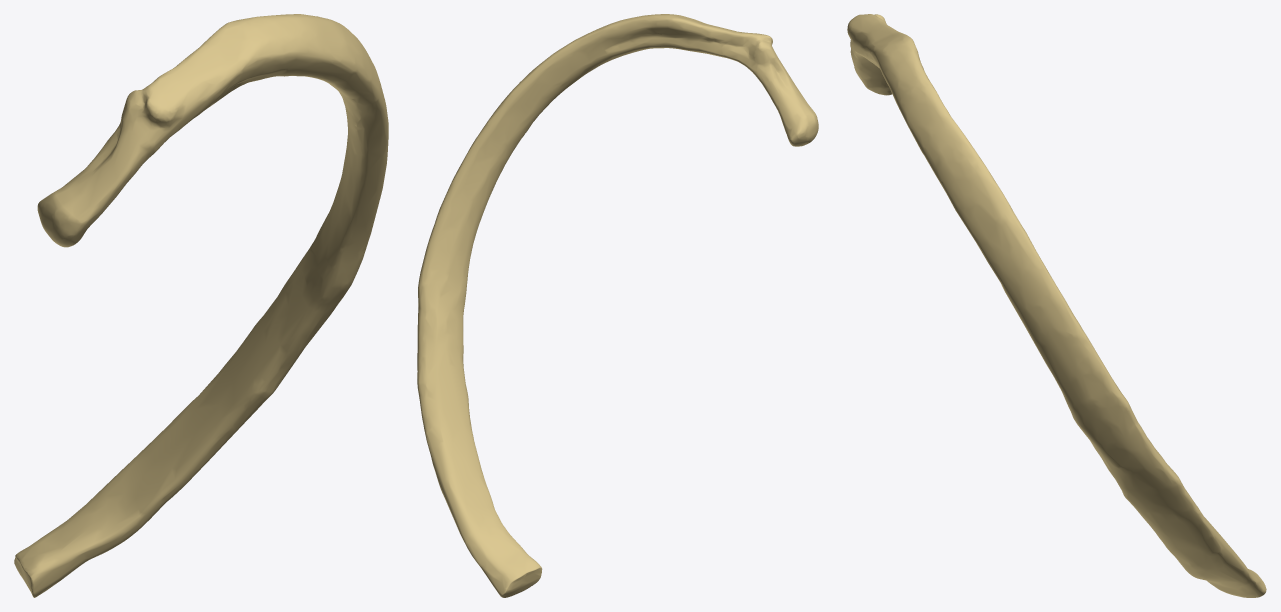
The picture shows the model from 3 angles, left to right: view 1: azimuth 30°, elevation 25°; view 2: azimuth 150°, elevation 25°; view 3: azimuth 270°, elevation 25°; orthographic projection. The views are drawn at different scales.
Parts seen in each view (by area): view 1: 左侧第四肋; view 2: 左侧第四肋; view 3: 左侧第四肋.
Part boxes in pixels (<box>): 左侧第四肋: <box>14,14,388,597</box>; 左侧第四肋: <box>417,14,818,597</box>; 左侧第四肋: <box>847,14,1266,597</box>.
Bounding box in the file's own units: 0.1615 × 0.2502 × 0.1725.
